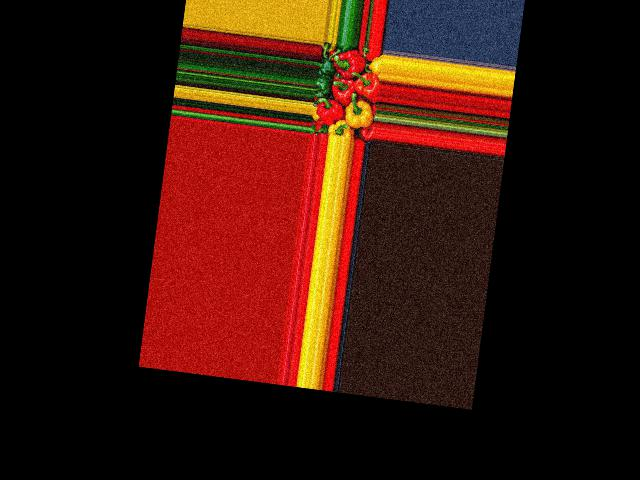bell_pepper: (368, 56, 383, 74)
